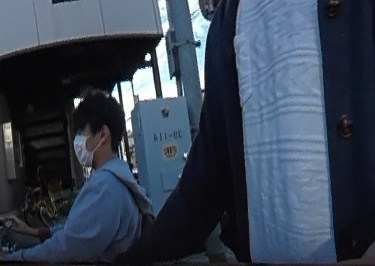person: (1, 90, 146, 265)
